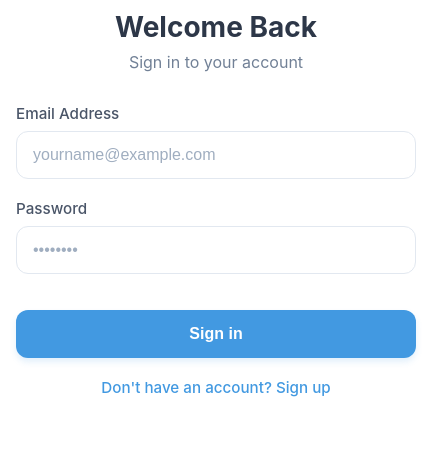
Login Component › testing whether the errors can be rendered when input the invalid emails
This screenshot has width=433, height=458.
Click the button "Sign in": (216, 334) [16,310,416,358]
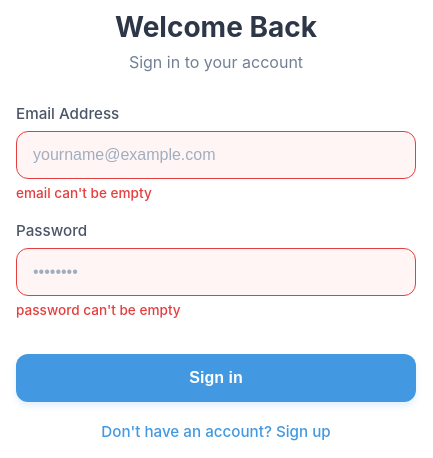
Expected: the text "email can't be empty" is shown, [16,185,152,201]
Expected: the text "password can't be empty" is shown, [16,302,181,318]
